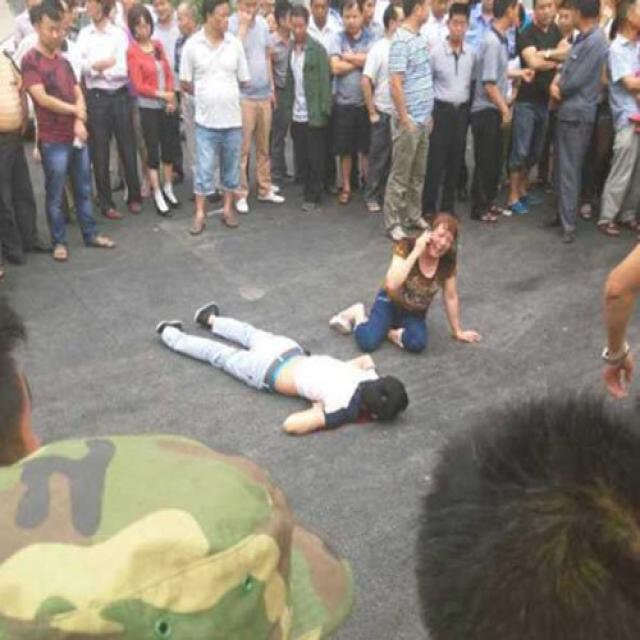10-: (0, 0, 637, 638)
down: (147, 301, 406, 441), (352, 210, 481, 351)
